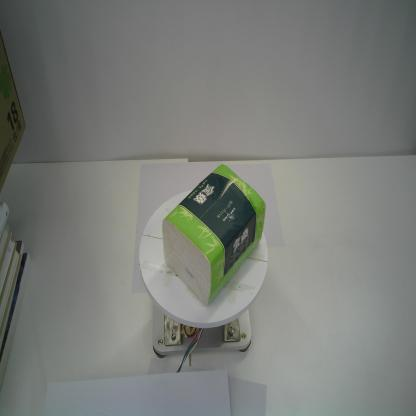Tissue: (160, 162, 266, 307)
